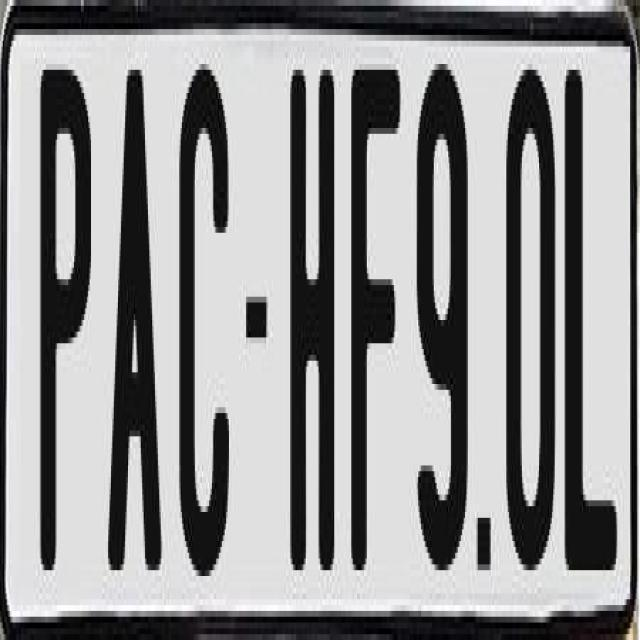0: (505, 52, 559, 558)
9: (415, 46, 475, 588)
A: (105, 52, 168, 570)
C: (178, 52, 228, 564)
F: (351, 70, 407, 576)
H: (289, 70, 340, 576)
L: (564, 70, 624, 582)
P: (37, 64, 88, 576)
